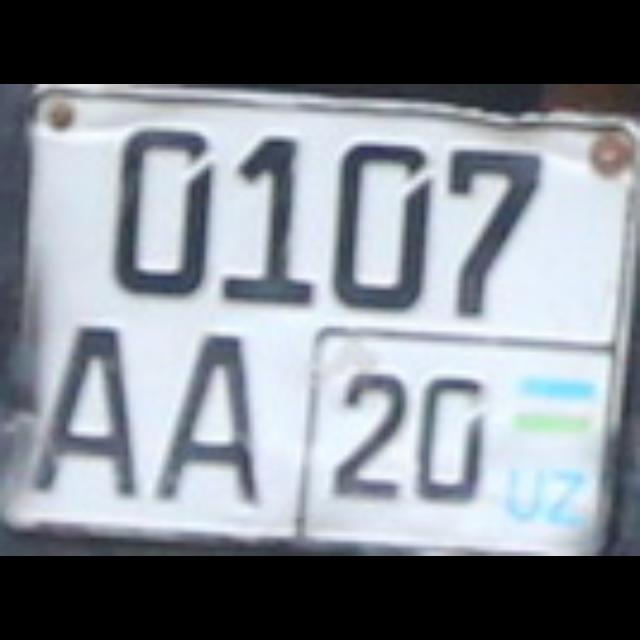0: (110, 122, 210, 294), (325, 137, 421, 309), (411, 370, 483, 500)
1: (214, 127, 306, 299)
2: (325, 366, 397, 490)
7: (440, 141, 530, 313)
A: (28, 322, 134, 490), (153, 328, 253, 500)
